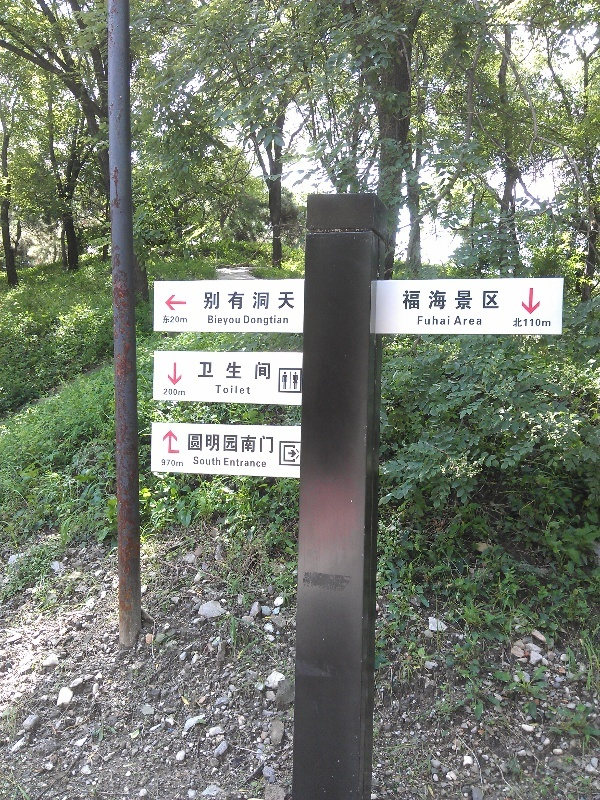text: (193, 433, 208, 454), (209, 433, 224, 454), (225, 433, 240, 454), (241, 433, 256, 454), (257, 433, 272, 454), (417, 290, 432, 310), (433, 290, 448, 310), (449, 290, 464, 310), (465, 290, 480, 310), (481, 290, 496, 310), (209, 361, 224, 381), (225, 361, 240, 381), (241, 361, 256, 381), (209, 291, 224, 310), (225, 291, 240, 310), (241, 291, 256, 310), (257, 291, 272, 310), (273, 291, 288, 310), (402, 290, 416, 310), (257, 361, 271, 381), (198, 361, 208, 381), (225, 457, 240, 469), (241, 457, 256, 469), (225, 315, 241, 326), (193, 456, 208, 467), (209, 315, 224, 326), (257, 315, 272, 326), (273, 315, 288, 326), (289, 291, 297, 310), (417, 316, 432, 326), (433, 316, 448, 326), (225, 385, 240, 395), (513, 318, 528, 328), (529, 318, 544, 328), (465, 316, 480, 326), (209, 456, 221, 467), (244, 315, 256, 326), (257, 457, 268, 469), (162, 315, 176, 324), (162, 459, 176, 468), (163, 388, 176, 397), (177, 315, 189, 324), (241, 385, 251, 395), (454, 316, 464, 326), (203, 291, 208, 310), (215, 385, 224, 395), (177, 388, 187, 397), (188, 433, 192, 454), (545, 318, 552, 328), (177, 459, 184, 468), (497, 290, 500, 310), (273, 433, 275, 454), (449, 316, 451, 326), (481, 316, 482, 326)
